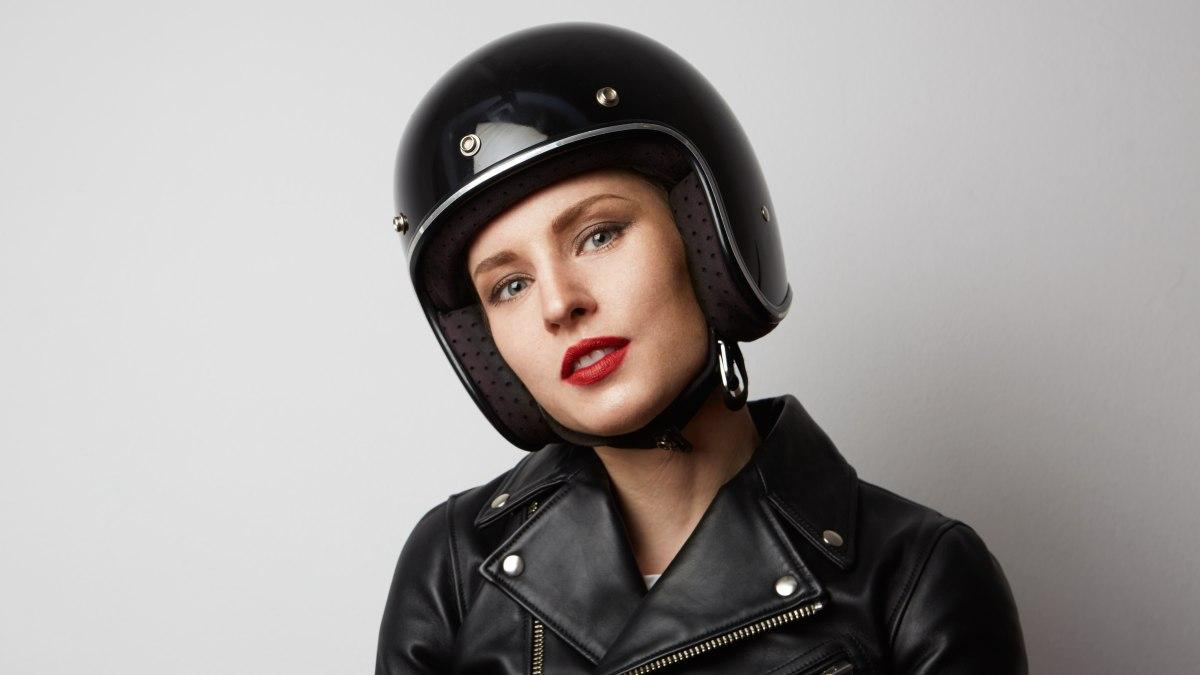helmet: (320, 14, 889, 429)
